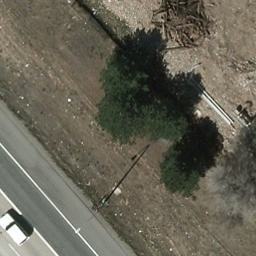car: (0, 213, 29, 248)
